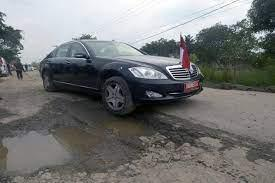Pothole: (0, 104, 173, 183)
